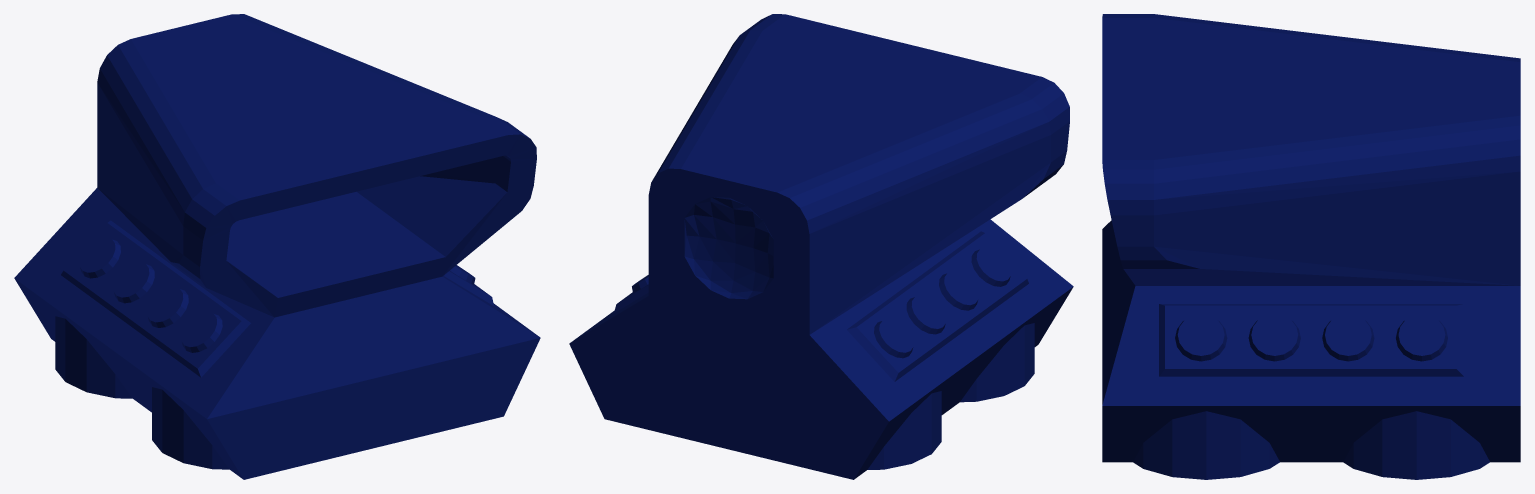
3 views of the same model, side by side, from view 1: azimuth 30°, elevation 25°; view 2: azimuth 150°, elevation 25°; view 3: azimuth 270°, elevation 25° (orthographic). The views are drawn at different scales.
Visible parts, largest first — view 1: Part_50943.1; view 2: Part_50943.1; view 3: Part_50943.1.
Boxes of the visible parts, box(x1,y1,x2,y2) form: Part_50943.1: box(14, 14, 540, 479); Part_50943.1: box(569, 14, 1073, 479); Part_50943.1: box(1102, 14, 1520, 479).
Size of the model in its own units: 15.92 by 12.78 by 15.93.
